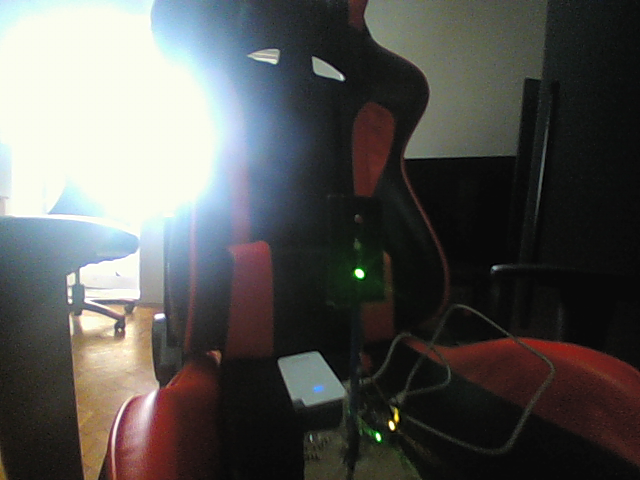green_sign: (323, 189, 387, 306)
